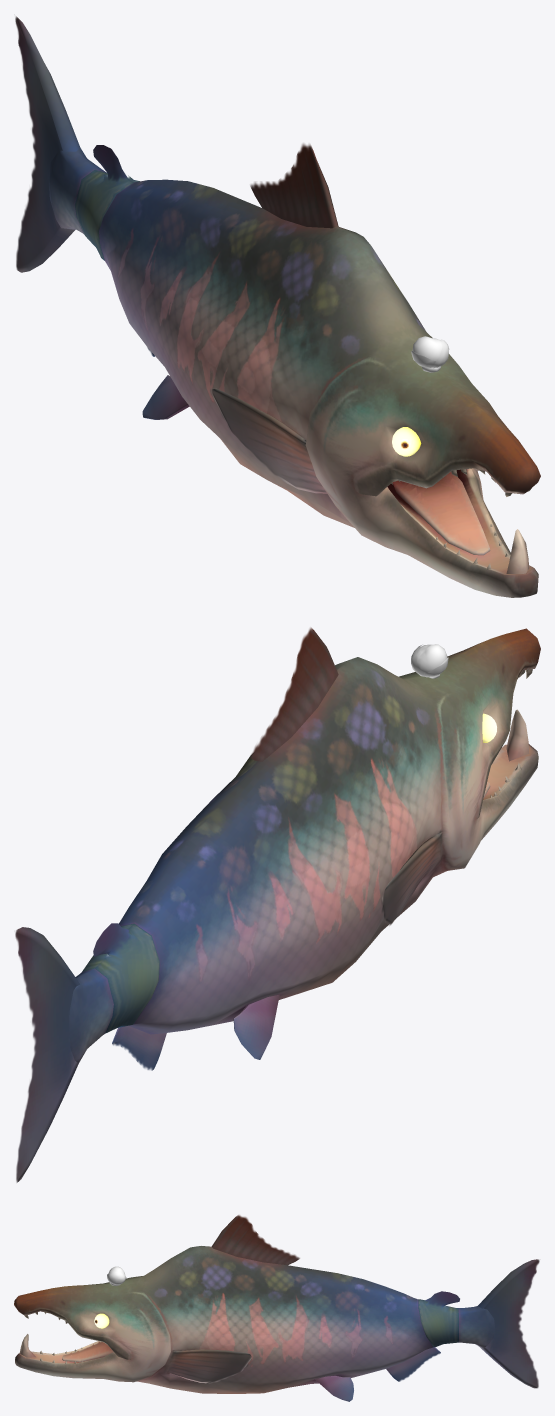
3 renders of one model, top to bottom at view 1: azimuth 30°, elevation 25°; view 2: azimuth 150°, elevation 25°; view 3: azimuth 270°, elevation 25°, orthographic. The views are drawn at different scales.
Visible parts, largest first — view 1: Body_Mesh__M_Body, Hair1_low__M_Hair05.001, Eyes_Mesh__M_Body; view 2: Body_Mesh__M_Body, Hair1_low__M_Hair05.001; view 3: Body_Mesh__M_Body, Hair1_low__M_Hair05.001, Eyes_Mesh__M_Body.
Part boxes in pixels (x1,y1,x2,y2): Body_Mesh__M_Body: [15, 16, 540, 597]; Hair1_low__M_Hair05.001: [411, 336, 449, 372]; Eyes_Mesh__M_Body: [391, 427, 531, 569]; Body_Mesh__M_Body: [15, 627, 540, 1182]; Hair1_low__M_Hair05.001: [411, 644, 448, 678]; Body_Mesh__M_Body: [14, 1215, 539, 1401]; Hair1_low__M_Hair05.001: [107, 1266, 126, 1285]; Eyes_Mesh__M_Body: [24, 1312, 109, 1363].
Bounding box in the file's own units: 35.3 × 68.06 × 183.
Materials: 2 (2 with a texture image).
